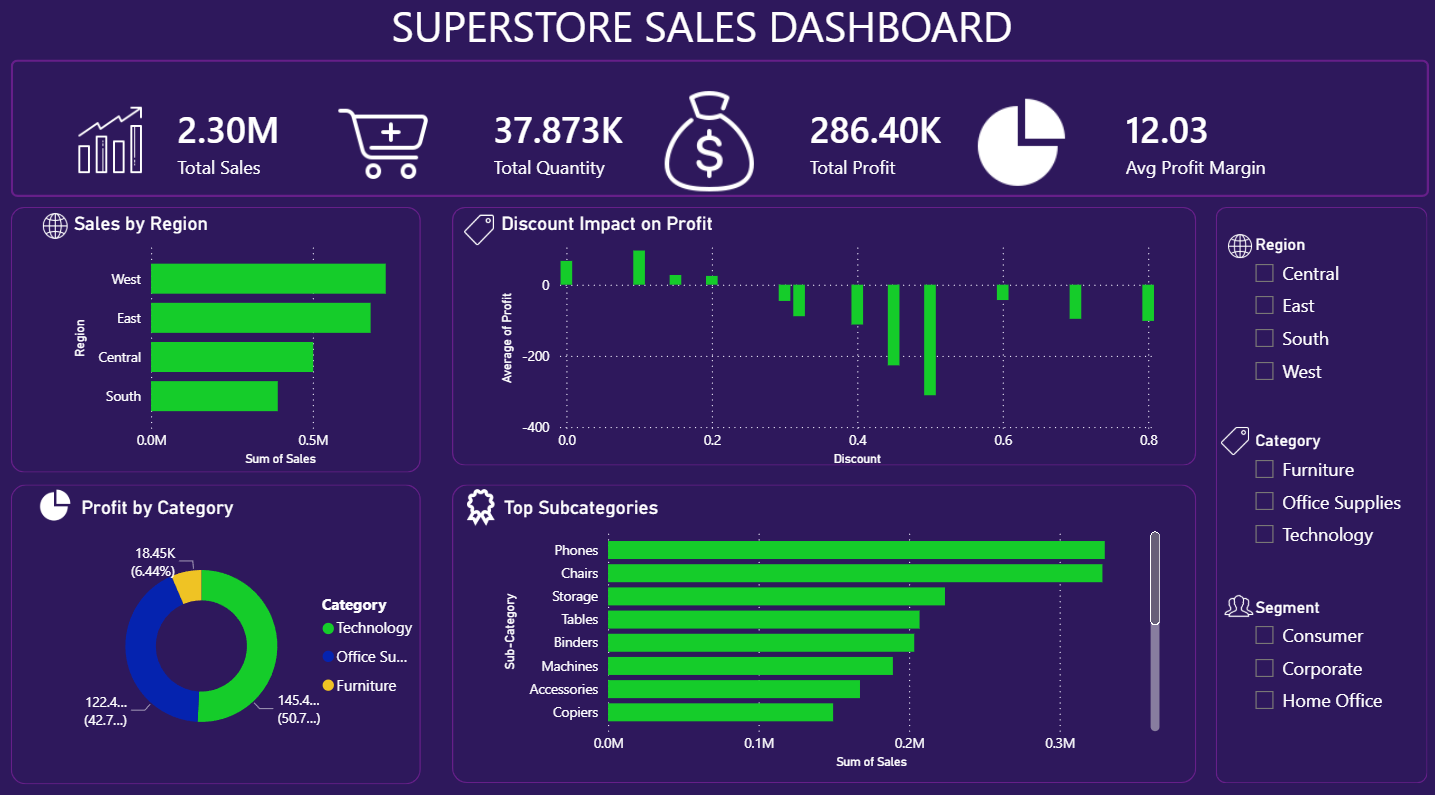

The dashboard page shown, as its layout file describes it:
{"tool":"powerbi","page":{"name":"Page 1","canvas":[1280,720],"ordinal":0},"visuals":[{"type":"clusteredBarChart","title":"Sales by Region","fields":{"Category":["SampleSuperstore.Region"],"Y":["Sum(SampleSuperstore.Sales)"]},"box":[63.6,195.7,322.8,231.1],"z":0},{"type":"donutChart","title":"Profit by Category","fields":{"Category":["SampleSuperstore.Category"],"Y":["Sum(SampleSuperstore.Profit)"]},"box":[69.7,447.6,316.7,248.2],"z":1000},{"type":"barChart","title":"Top Subcategories","fields":{"Category":["SampleSuperstore.Sub-Category"],"Y":["Sum(SampleSuperstore.Sales)"]},"box":[445.1,447.6,593.1,248.2],"z":2000},{"type":"clusteredColumnChart","title":"Discount Impact on Profit","fields":{"Category":["SampleSuperstore.Discount"],"Y":["Avg(SampleSuperstore.Profit)"]},"box":[443.9,195.7,594.3,231.1],"z":3000},{"type":"slicer","fields":{"Values":["SampleSuperstore.Region"]},"box":[1105.4,211.6,166.3,148],"z":4000},{"type":"slicer","fields":{"Values":["SampleSuperstore.Category"]},"box":[1105.4,385.2,166.3,124.7],"z":5000},{"type":"slicer","fields":{"Values":["SampleSuperstore.Segment"]},"box":[1105.4,533.2,167.5,126],"z":6000},{"type":"cardVisual","fields":{"Data":["SampleSuperstore.Total Sales","SampleSuperstore.Total Quantity","SampleSuperstore.Total Profit","SampleSuperstore.Avg Profit Margin"]},"box":[143.1,84.4,1137.2,97.8],"z":7000},{"type":"image","box":[57.5,84.4,85.6,97.8],"z":8000},{"type":"textbox","box":[346.1,0,573.5,59.9],"z":9000},{"type":"image","box":[303.3,84.4,83.2,97.8],"z":10000},{"type":"image","box":[585.7,84.4,95.4,97.8],"z":11000},{"type":"image","box":[862.1,84.4,96.6,97.8],"z":12000},{"type":"image","box":[33,195.7,36.7,24.5],"z":13000},{"type":"image","box":[33,439,36.7,34.2],"z":14000},{"type":"image","box":[413.3,196.9,30.6,29.3],"z":15000},{"type":"image","box":[409.6,439,40.4,36.7],"z":16000},{"type":"image","box":[1093.2,211.6,23.2,29.3],"z":17000},{"type":"image","box":[1084.7,385.2,31.8,26.9],"z":18000},{"type":"image","box":[1090.8,533.2,25.7,25.7],"z":19000},{"type":"shape","box":[12.2,59.9,1260.7,122.3],"z":20000},{"type":"shape","box":[12.2,190.8,364.4,236],"z":21000},{"type":"shape","box":[12.2,437.8,364.4,266.6],"z":22000},{"type":"shape","box":[404.8,190.8,661.6,229.9],"z":23000},{"type":"shape","box":[404.8,437.8,661.6,265.4],"z":24000},{"type":"shape","box":[1083.4,190.8,188.3,512.4],"z":25000}]}

Visuals, with their boxes in screenshot pixels (x1, y1, x2, y2), scaled from the page's 1280x720 canvas onto the 1435x795 screenshot:
"Sales by Region" clusteredBarChart: <region>71, 216, 433, 471</region>
"Profit by Category" donutChart: <region>78, 494, 433, 768</region>
"Top Subcategories" barChart: <region>499, 494, 1164, 768</region>
"Discount Impact on Profit" clusteredColumnChart: <region>498, 216, 1164, 471</region>
slicer - SampleSuperstore.Region: <region>1239, 234, 1426, 397</region>
slicer - SampleSuperstore.Category: <region>1239, 425, 1426, 563</region>
slicer - SampleSuperstore.Segment: <region>1239, 589, 1427, 728</region>
cardVisual - SampleSuperstore.Total Sales x SampleSuperstore.Total Quantity: <region>160, 93, 1434, 201</region>
image: <region>64, 93, 160, 201</region>
textbox: <region>388, 0, 1031, 66</region>
image: <region>340, 93, 433, 201</region>
image: <region>657, 93, 764, 201</region>
image: <region>966, 93, 1075, 201</region>
image: <region>37, 216, 78, 243</region>
image: <region>37, 485, 78, 522</region>
image: <region>463, 217, 498, 250</region>
image: <region>459, 485, 504, 525</region>
image: <region>1226, 234, 1252, 266</region>
image: <region>1216, 425, 1252, 455</region>
image: <region>1223, 589, 1252, 617</region>
shape: <region>14, 66, 1427, 201</region>
shape: <region>14, 211, 422, 471</region>
shape: <region>14, 483, 422, 778</region>
shape: <region>454, 211, 1196, 465</region>
shape: <region>454, 483, 1196, 776</region>
shape: <region>1215, 211, 1426, 776</region>
